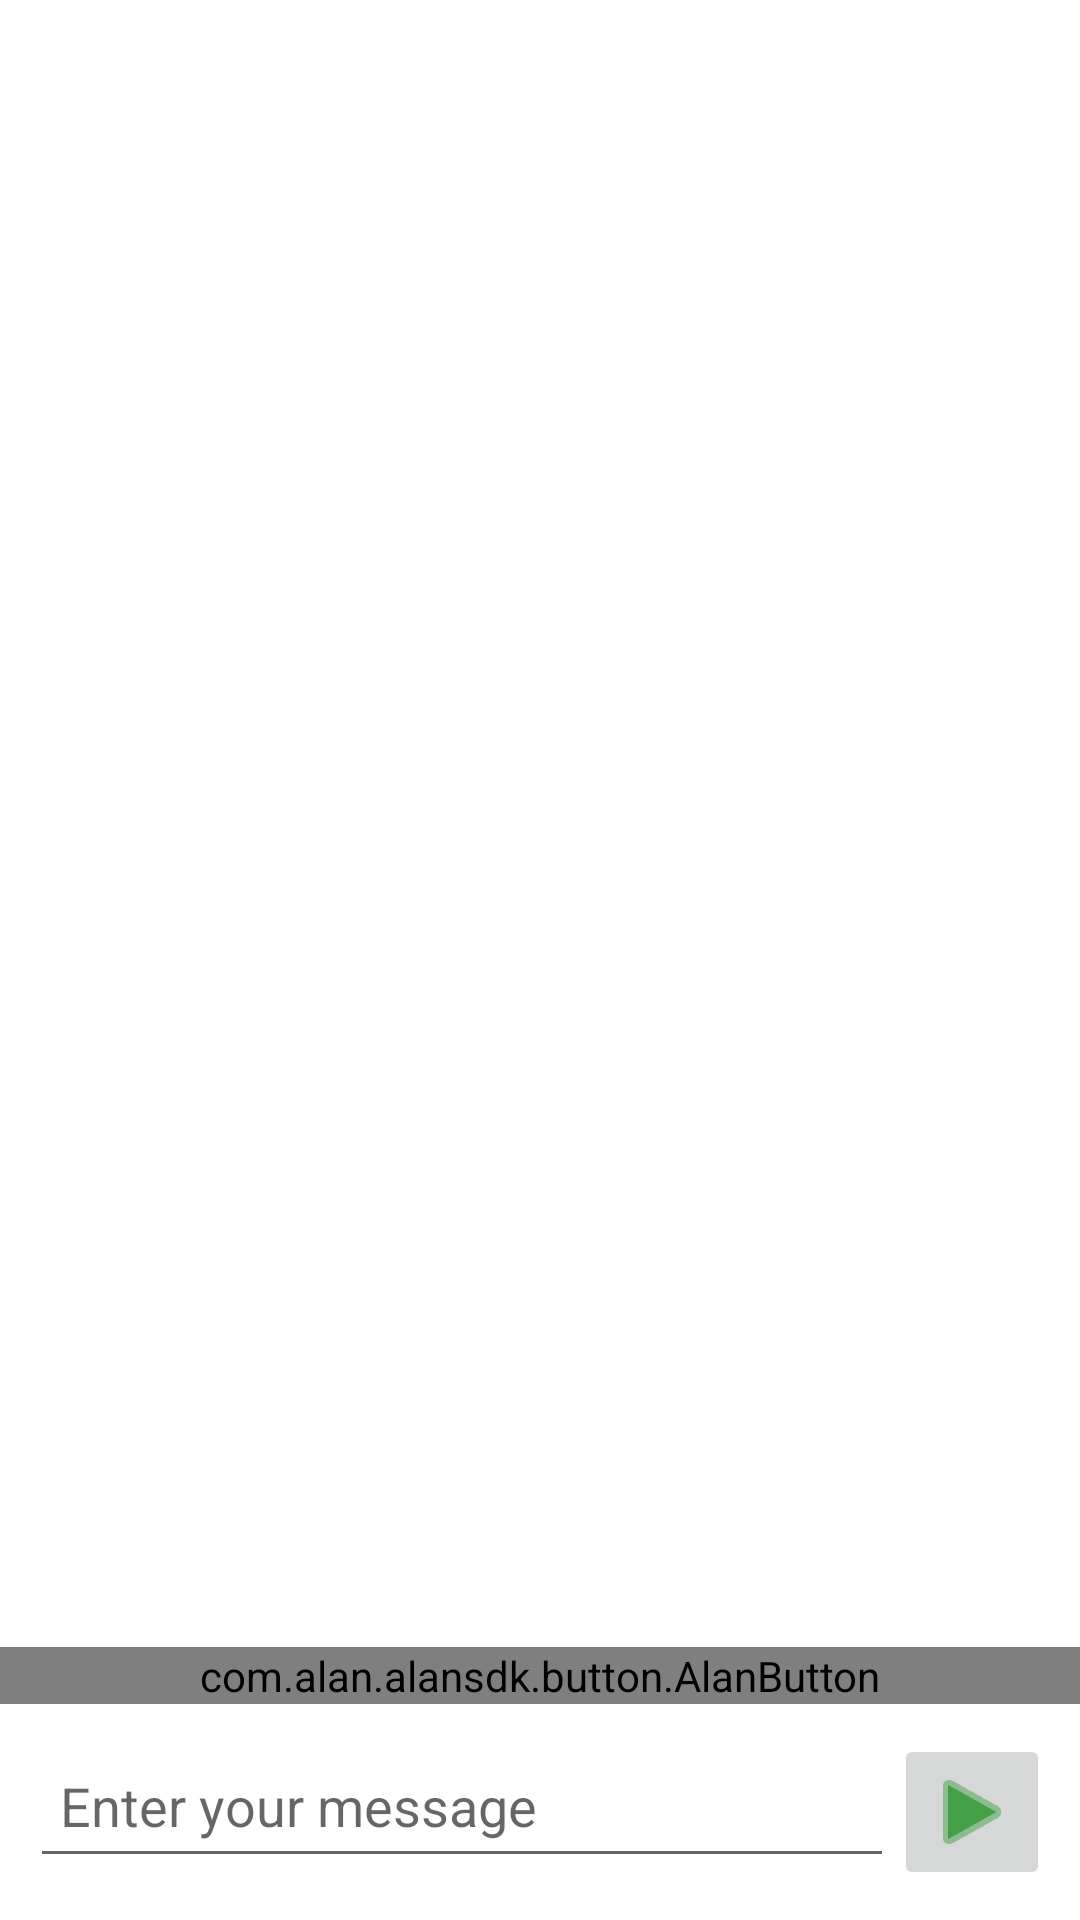

Locate icon controls on the screen. Image size 1080×1920, boxes as (x1, y1, x2, y2).
play: (906, 1752, 1038, 1872)
